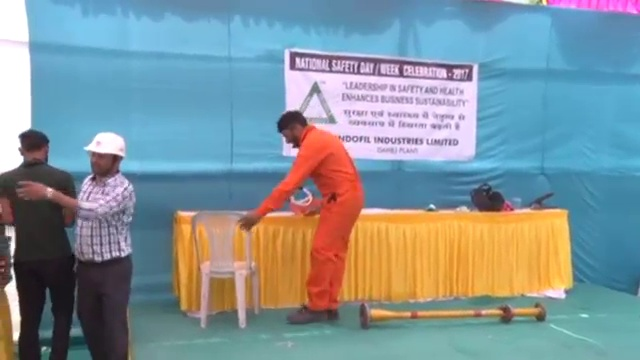helmet: (83, 130, 127, 160)
helmet_off: (274, 109, 307, 150), (18, 128, 51, 166)
helmet_on: (83, 130, 127, 178)
person: (16, 130, 141, 360), (241, 110, 367, 325), (1, 124, 82, 360)
